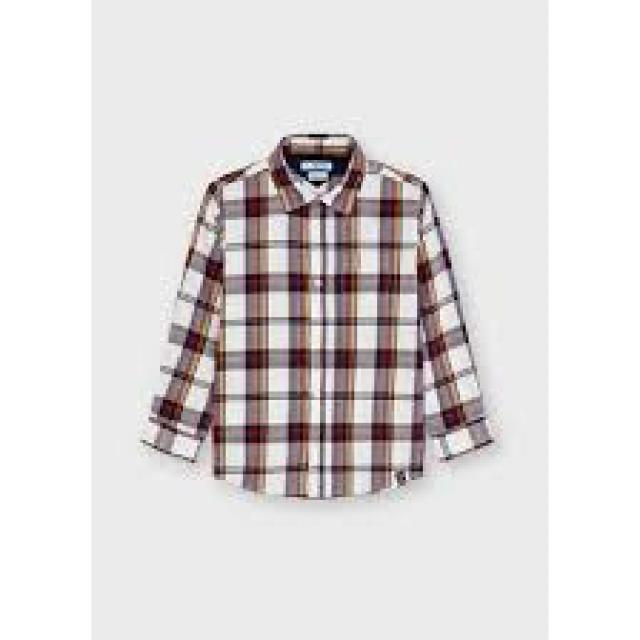plaid: (132, 126, 498, 505)
